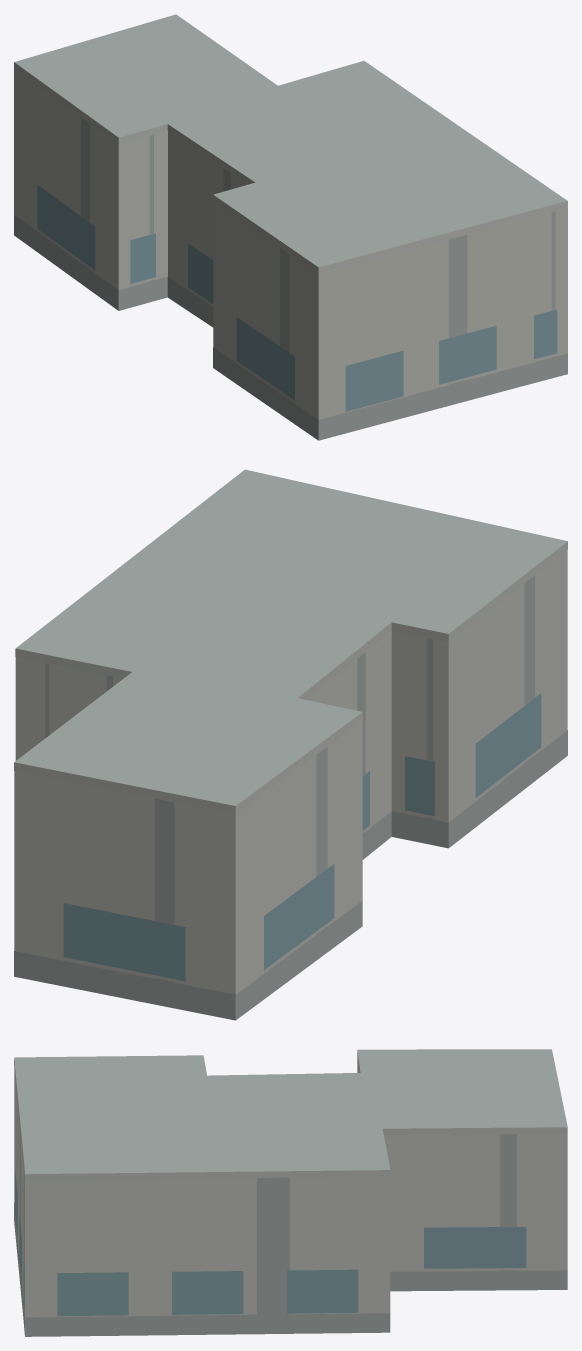
Rendered from survey-upis-32730601.glb.
The picture shows the model from 3 angles, top to bottom: view 1: azimuth 30°, elevation 25°; view 2: azimuth 150°, elevation 25°; view 3: azimuth 270°, elevation 25°; orthographic projection. The views are drawn at different scales.
Visible parts, largest first — view 1: survey-upis-32730601.tmp; view 2: survey-upis-32730601.tmp; view 3: survey-upis-32730601.tmp.
Boxes of the visible parts, <box> form: survey-upis-32730601.tmp: <box>14,14,567,440</box>; survey-upis-32730601.tmp: <box>14,469,567,1020</box>; survey-upis-32730601.tmp: <box>14,1049,567,1336</box>.
Size of the model in its own units: 10.07 by 6.1 by 18.84.
